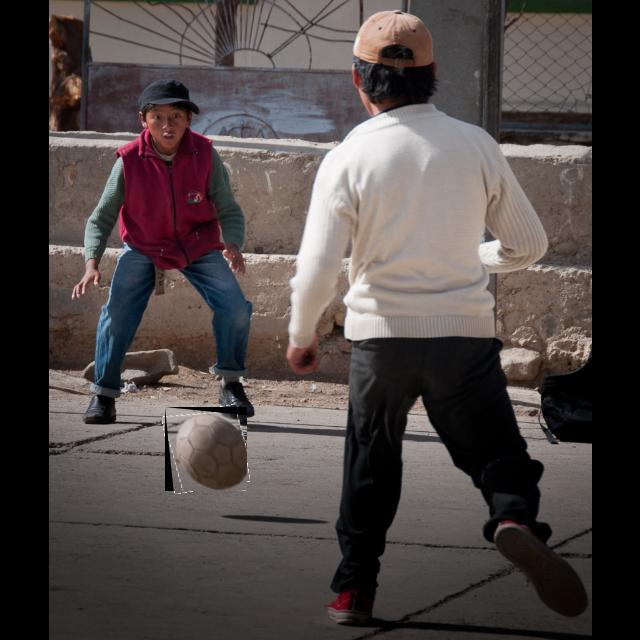Football: (165, 407, 247, 491)
